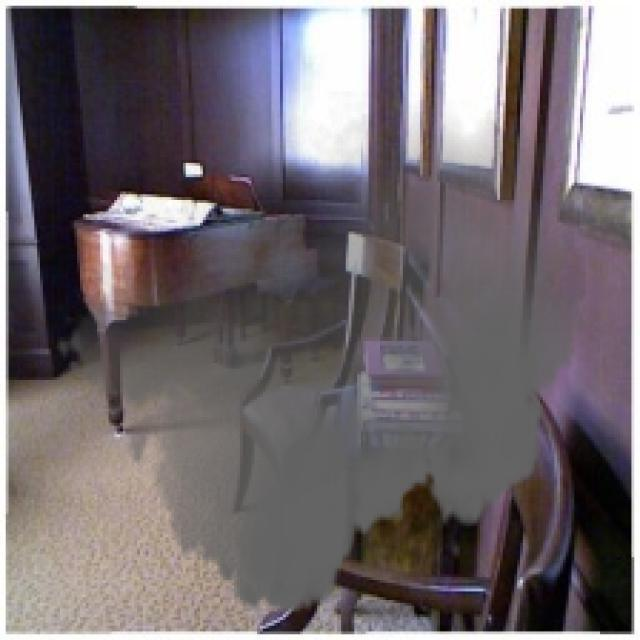Smoke: (54, 91, 586, 632)
